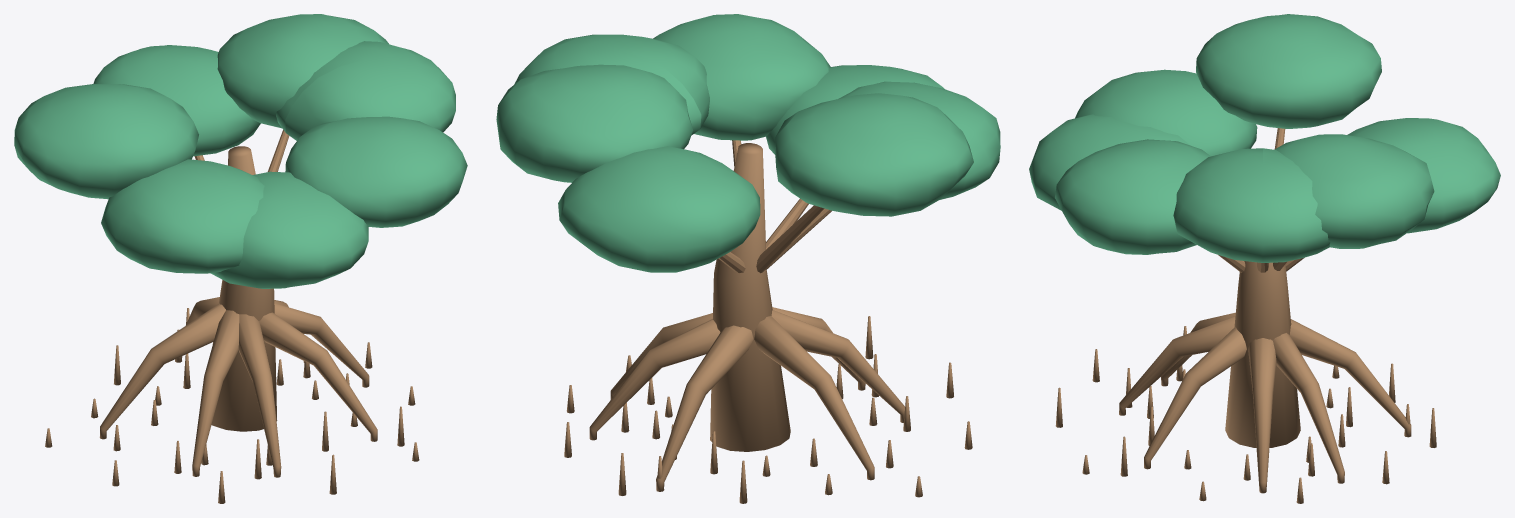
File: black_mangrove_tropical_island_and_palm_trees_6811.glb
3 renders of one model, left to right at view 1: azimuth 30°, elevation 25°; view 2: azimuth 150°, elevation 25°; view 3: azimuth 270°, elevation 25°, orthographic. The views are drawn at different scales.
Parts seen in each view (by area): view 1: black-mangrove; view 2: black-mangrove; view 3: black-mangrove.
Part boxes in pixels (x1,y1,x2,y2): black-mangrove: (14,14,467,503); black-mangrove: (496,14,1000,503); black-mangrove: (1029,14,1500,503).
Size of the model in its own units: 4.41 by 3.52 by 4.38.
